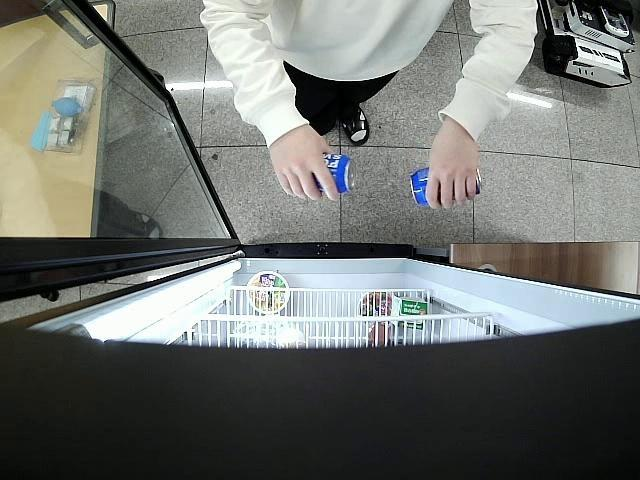13_pocariSweat: (411, 165, 482, 206), (314, 152, 357, 194)
